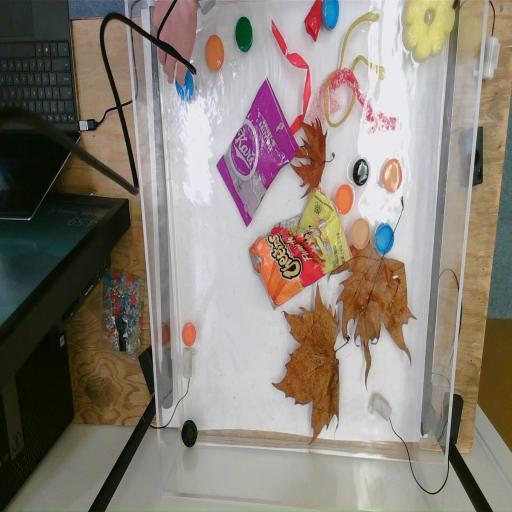Bottle Cap: (204, 34, 224, 72), (174, 66, 194, 102), (234, 15, 253, 52), (382, 158, 402, 192), (374, 223, 394, 256), (351, 218, 370, 250), (336, 184, 354, 216), (322, 0, 340, 30), (182, 420, 199, 450), (182, 322, 196, 348), (354, 160, 368, 185)
Cone Cap: (305, 1, 325, 40)
Leaf: (330, 202, 418, 378), (272, 286, 352, 438), (290, 114, 336, 197)
Netting: (329, 68, 399, 140), (308, 76, 342, 134)
Plastic Bag: (214, 76, 300, 230), (247, 188, 353, 302)
Plastic Strand: (324, 10, 386, 128), (270, 18, 312, 142)
Sponge: (401, 0, 456, 65)
